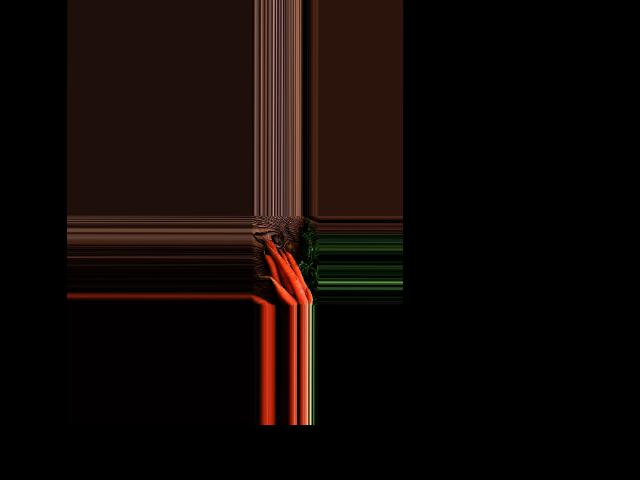carrot: (269, 277, 296, 304)
